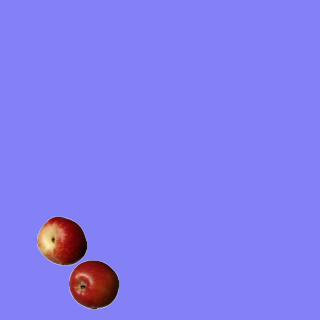Apple Braeburn: (68, 259, 118, 309)
Nectarine: (36, 215, 86, 265)
